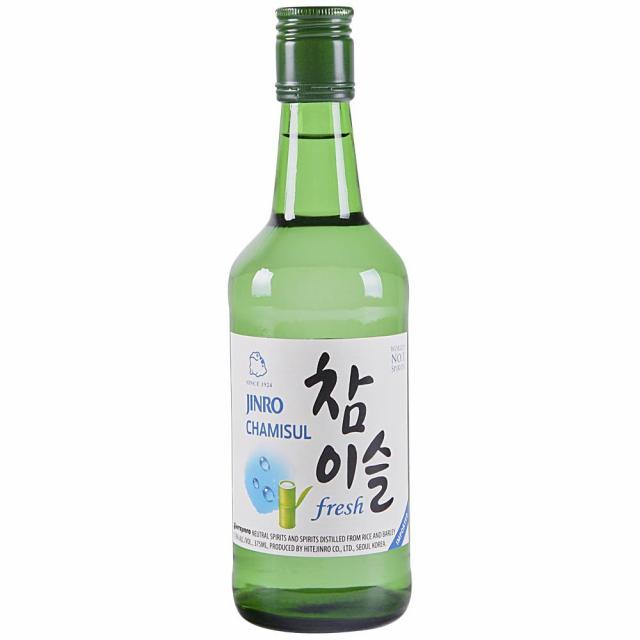soju-bottle: (225, 5, 412, 634)
